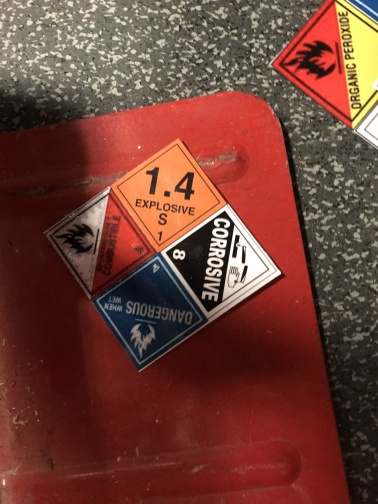Corrosive: (161, 203, 280, 317)
DangerousWhenWet: (90, 252, 205, 371)
Explosive: (112, 136, 226, 252)
OrganicPeroxide: (272, 1, 378, 128)
SpontaneouslyCombustible: (41, 185, 157, 299)
